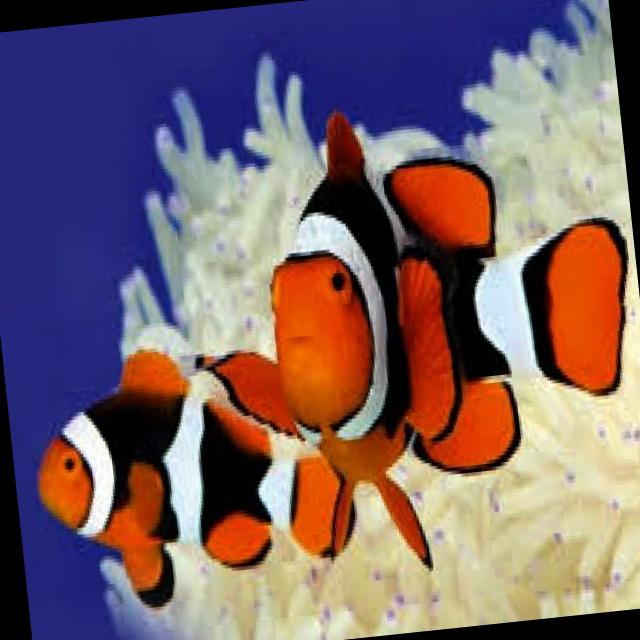ClownFish: (258, 86, 640, 542), (31, 331, 286, 620)
